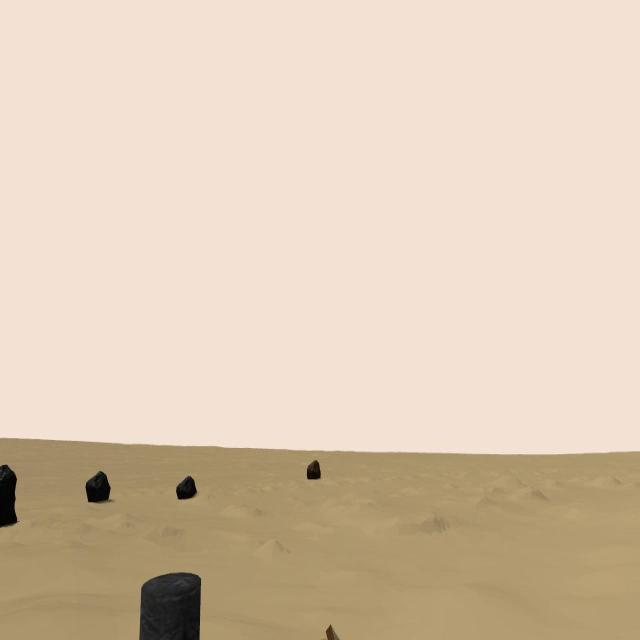rock: (0, 463, 18, 528), (85, 470, 111, 500), (176, 476, 197, 499), (306, 460, 321, 481)
